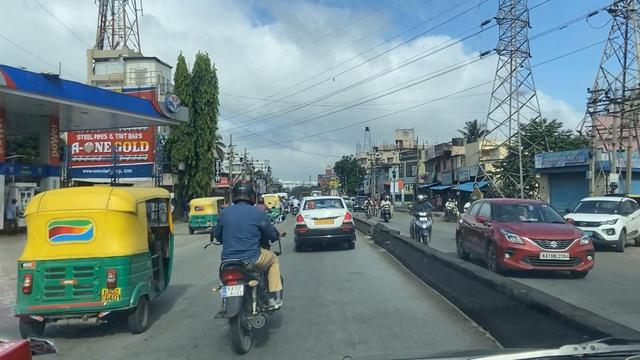LMV: (27, 195, 178, 328), (214, 173, 279, 351), (296, 197, 356, 251)
